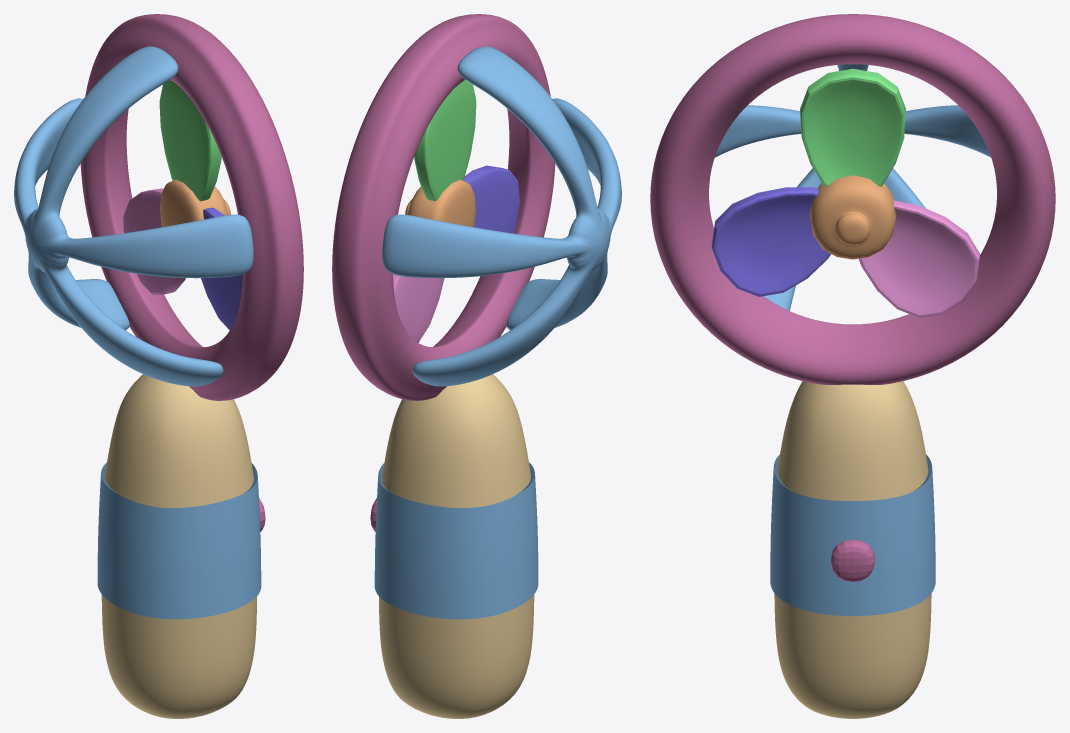
The model's file is EletricFan_Item.fbx.
The picture shows the model from 3 angles, left to right: view 1: azimuth 30°, elevation 25°; view 2: azimuth 150°, elevation 25°; view 3: azimuth 270°, elevation 25°; orthographic projection. The views are drawn at different scales.
Parts seen in each view (by area): view 1: Cube.007, Cube.005; view 2: Cube.007, Cube.005; view 3: Cube.007, Cube.005.
Part boxes in pixels (x1,y1,x2,y2): Cube.007: (14, 14, 303, 718); Cube.005: (123, 80, 242, 330); Cube.007: (332, 14, 621, 718); Cube.005: (393, 80, 519, 342); Cube.007: (650, 14, 1055, 718); Cube.005: (711, 68, 979, 318).
Size of the model in its own units: 308 by 875 by 461.
